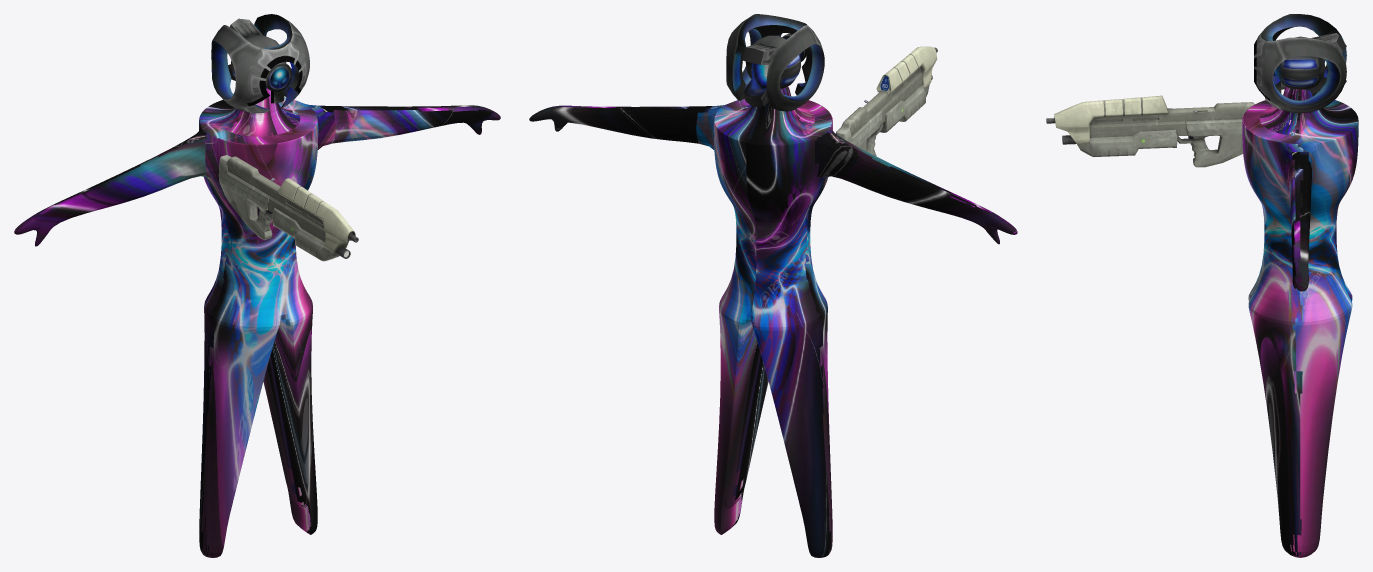
File: HaloPlayerCompleteBody.fbx
3 renders of one model, left to right at view 1: azimuth 30°, elevation 25°; view 2: azimuth 150°, elevation 25°; view 3: azimuth 270°, elevation 25°, orthographic. The views are drawn at different scales.
Visible parts, largest first — view 1: Cylinder, __unnamed, LOD_0_Combined; view 2: Cylinder, __unnamed, LOD_0_Combined; view 3: Cylinder, LOD_0_Combined, __unnamed.
Boxes of the visible parts, box(x1,y1,x2,y2) form: Cylinder: box(14, 88, 500, 557); __unnamed: box(211, 14, 309, 113); LOD_0_Combined: box(218, 155, 358, 261); Cylinder: box(529, 86, 1017, 557); __unnamed: box(726, 14, 824, 111); LOD_0_Combined: box(835, 46, 937, 156); Cylinder: box(1242, 86, 1358, 557); LOD_0_Combined: box(1046, 95, 1254, 167); __unnamed: box(1254, 14, 1346, 113).
Bounding box in the file's own units: 277 × 283 × 158.
